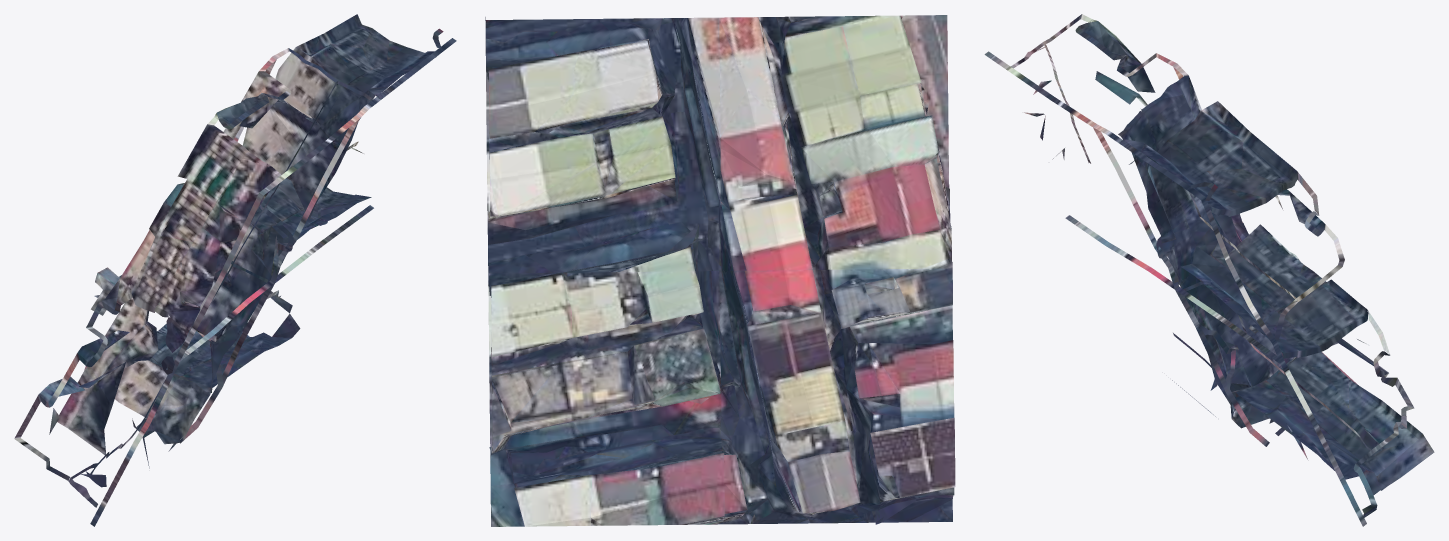
The picture shows the model from 3 angles, left to right: view 1: azimuth 30°, elevation 25°; view 2: azimuth 150°, elevation 25°; view 3: azimuth 270°, elevation 25°; orthographic projection. The views are drawn at different scales.
Bounding box in the file's own units: 83.84 × 76.82 × 76.27.
Materials: 2 (2 with a texture image).
